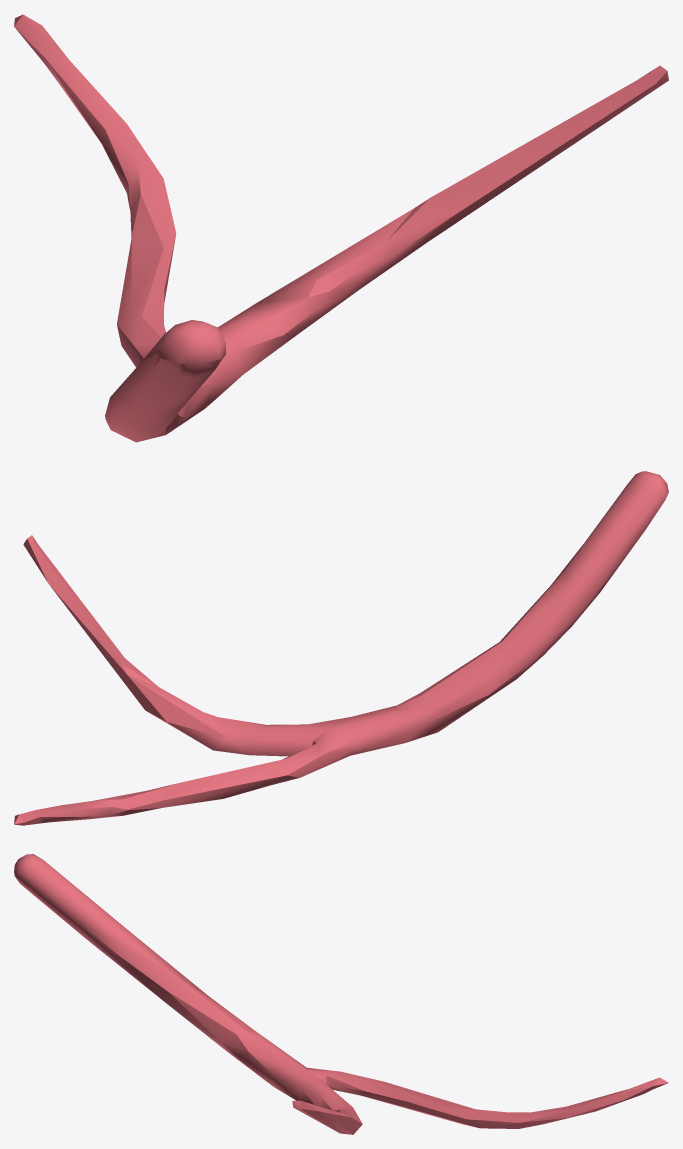
File: fma71578_fj4688.glb
3 views of the same model, one above another, from view 1: azimuth 30°, elevation 25°; view 2: azimuth 150°, elevation 25°; view 3: azimuth 270°, elevation 25° (orthographic). The views are drawn at different scales.
Visible parts, largest first — view 1: FMA71578_FJ4688; view 2: FMA71578_FJ4688; view 3: FMA71578_FJ4688.
Part boxes in pixels (box(x1,y1,x2,y2)): FMA71578_FJ4688: box(14, 14, 668, 442); FMA71578_FJ4688: box(14, 471, 668, 825); FMA71578_FJ4688: box(14, 854, 668, 1134).
Size of the model in its own units: 0.0143 by 0.00578 by 0.0197.
